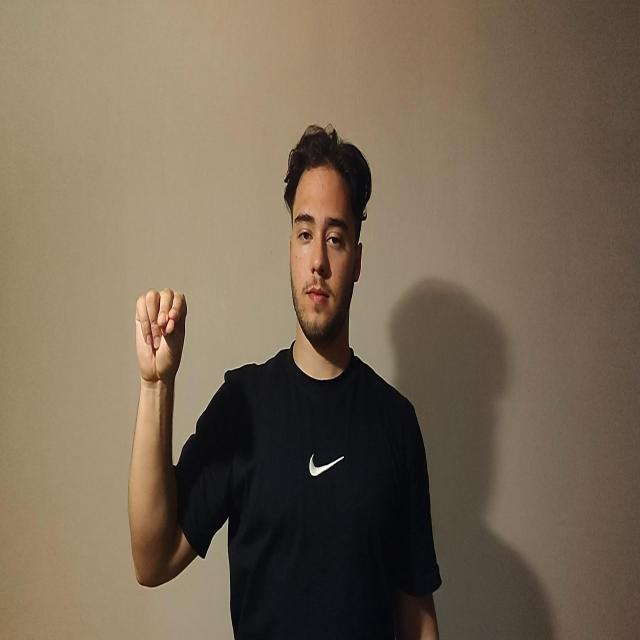no: (135, 286, 187, 384)
